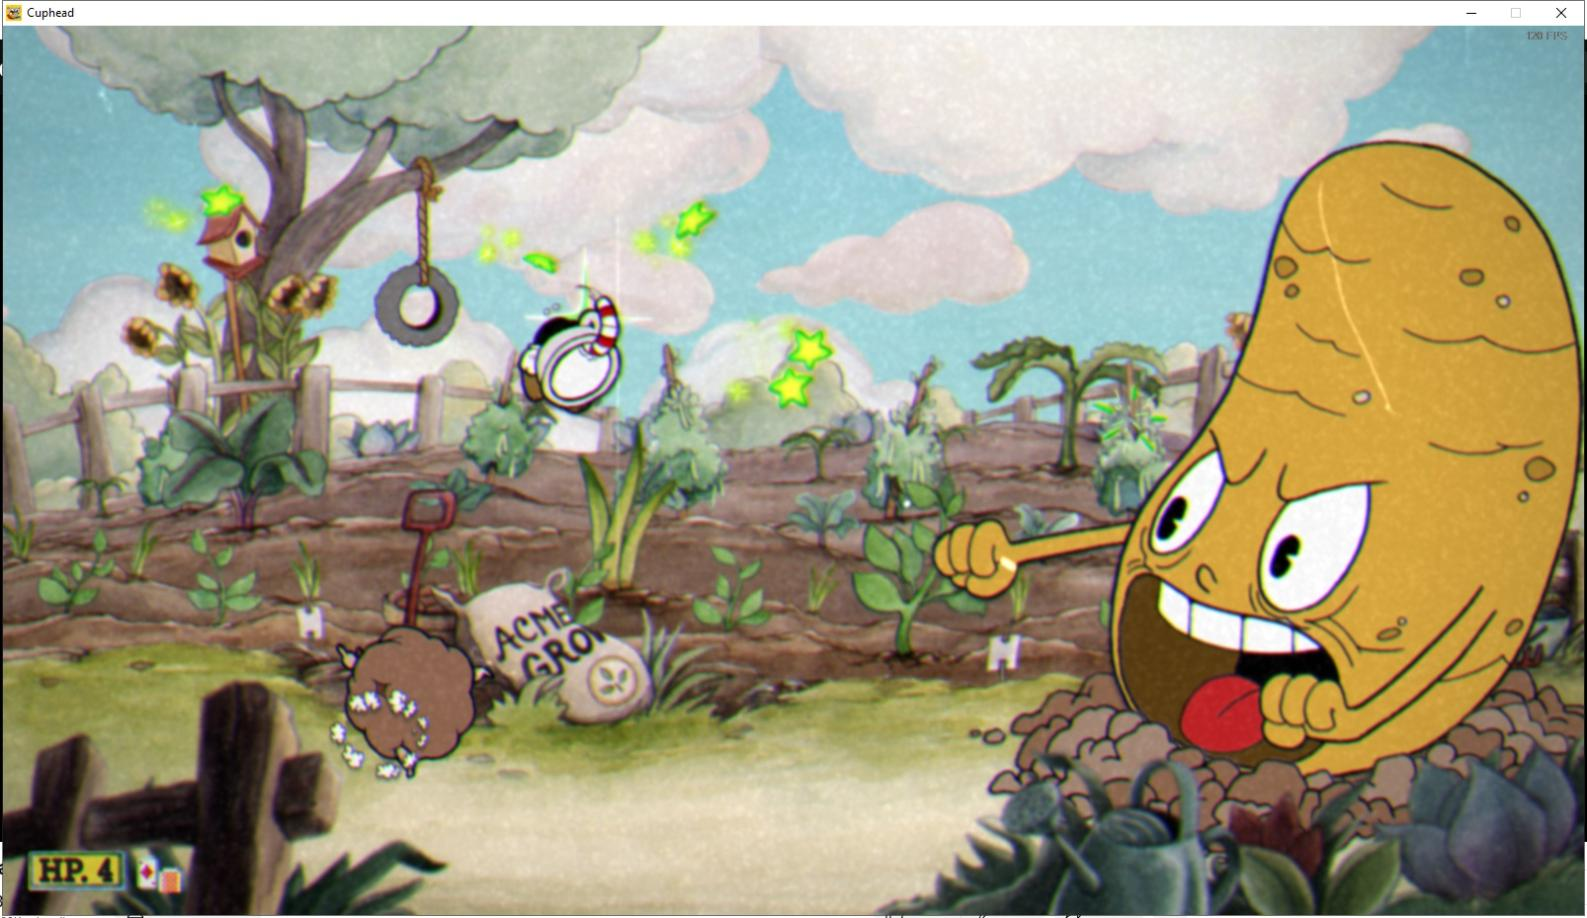dirt: (352, 630, 488, 778)
hp4: (92, 850, 125, 890)
player: (509, 290, 647, 424)
potato_boss: (1106, 139, 1566, 776)
